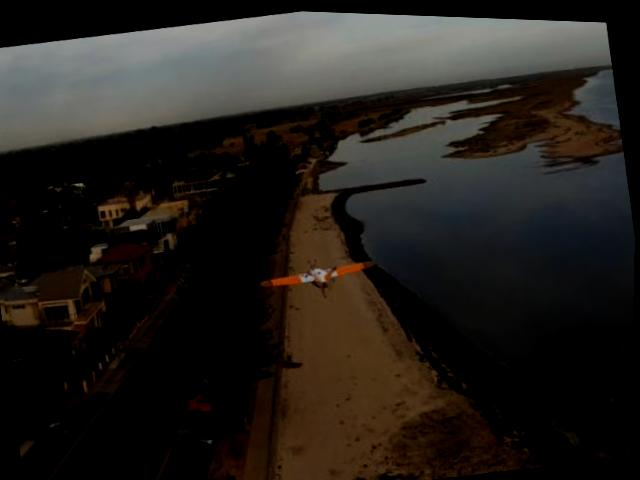uav: (254, 246, 382, 302)
